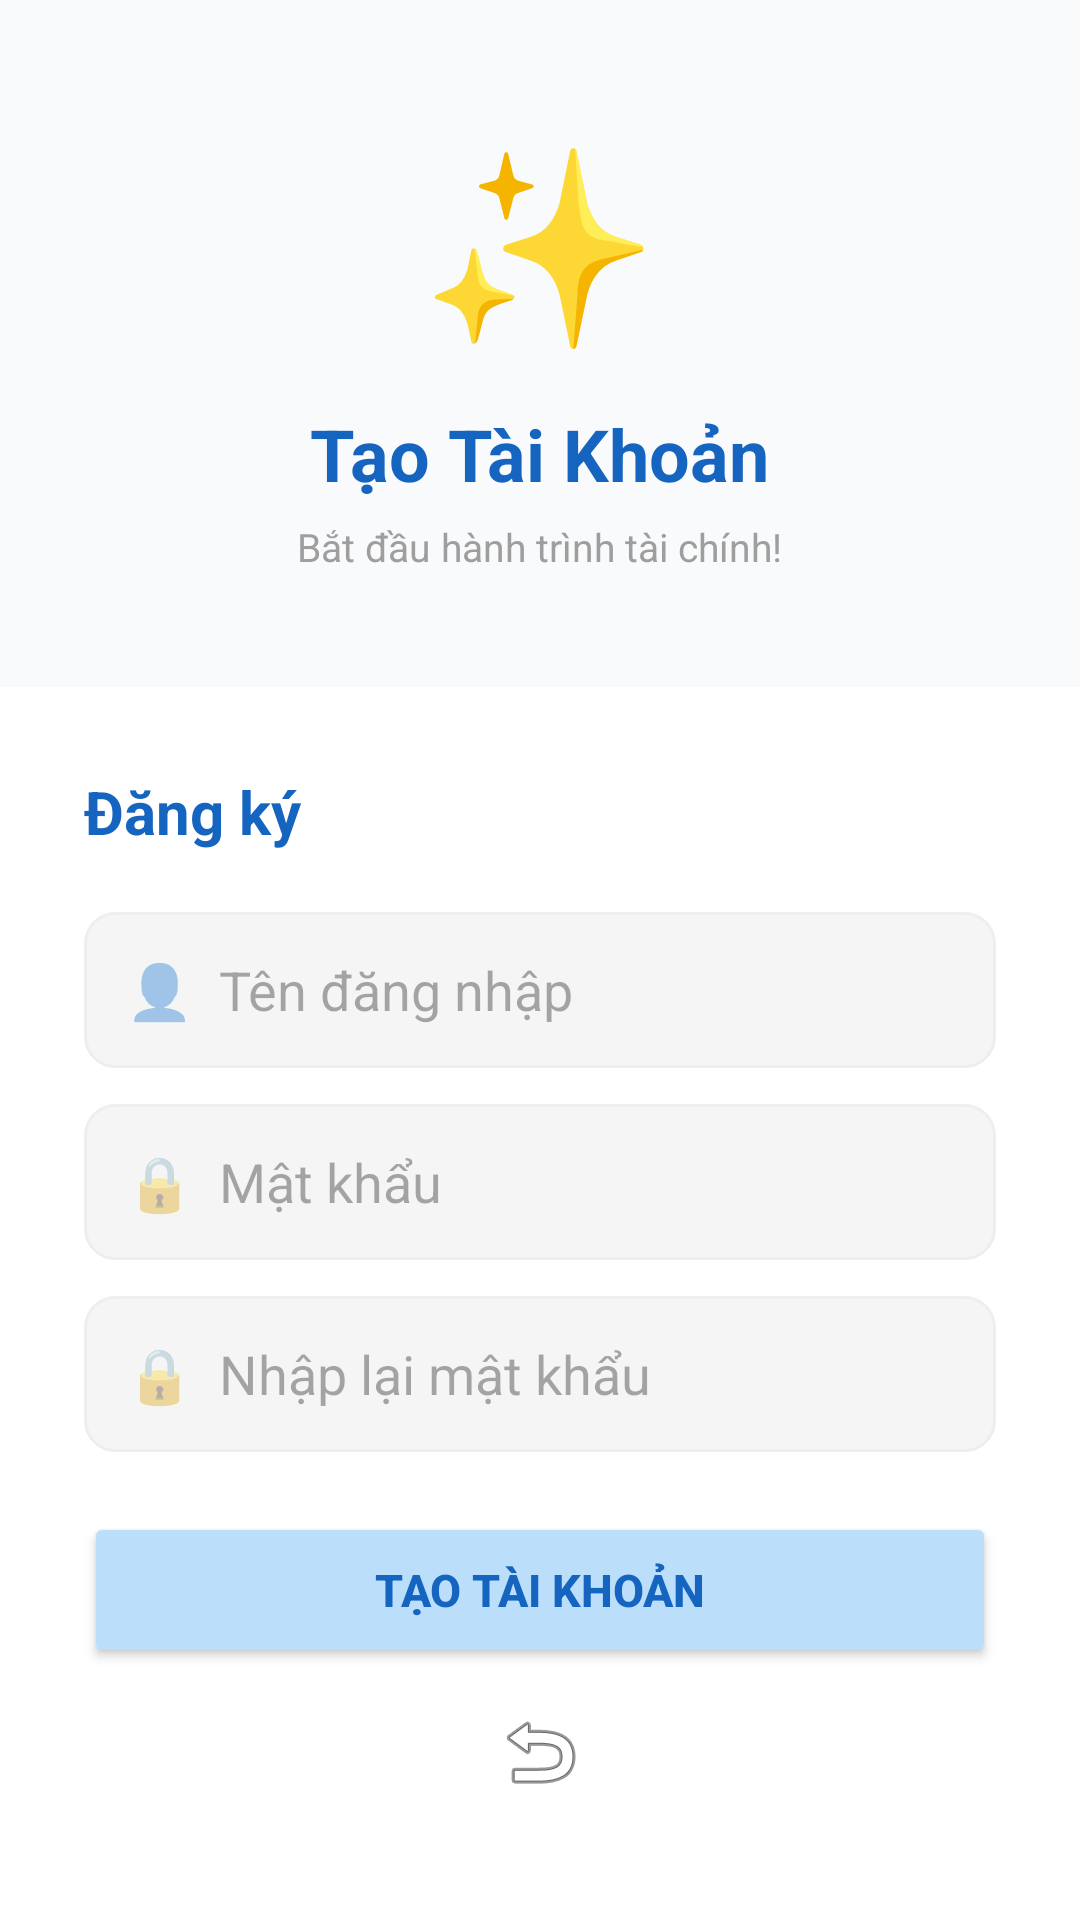

Screen size 1080 × 1920. Icon name, then its center in pixels as (x,y):
revert: (541,1752)
